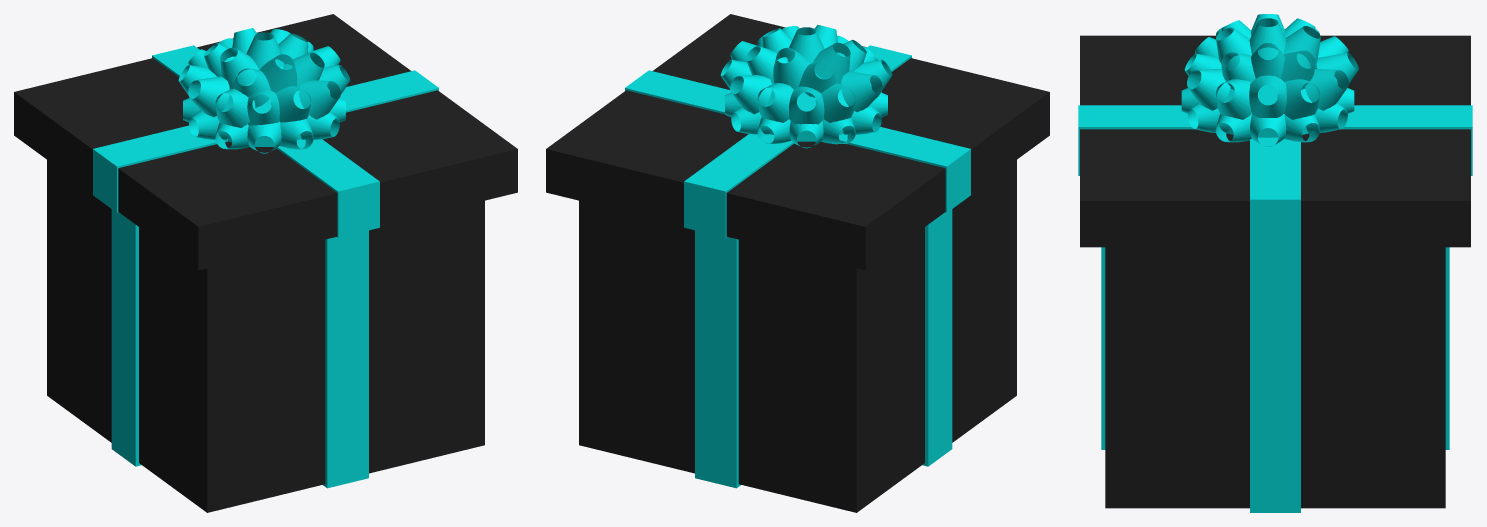
Rendered from gift_box_game_one.fbx.
The picture shows the model from 3 angles, left to right: view 1: azimuth 30°, elevation 25°; view 2: azimuth 150°, elevation 25°; view 3: azimuth 270°, elevation 25°; orthographic projection. The views are drawn at different scales.
Visible parts, largest first — view 1: gBox, gBoxLid, bRibbon, bRibbon3, bRibbon7, bRibbon6, GiftGameScene_0008:pCylinder10 (×3), GiftGameScene_0008:pCylinder11 (×3), bRibbon11, GiftGameScene_0008:pCylinder12 (×2), bRibbon10, GiftGameScene_0008:pCylinder26 (+6 smaller); view 2: gBox, gBoxLid, bRibbon2, bRibbon3, bRibbon7, bRibbon6, bRibbon9, GiftGameScene_0008:pCylinder11 (×2), GiftGameScene_0008:pCylinder10 (×2), bRibbon10, GiftGameScene_0008:pCylinder26, GiftGameScene_0008:pCylinder18 (+10 smaller); view 3: gBox, gBoxLid, bRibbon1, bRibbon6, GiftGameScene_0008:pCylinder12 (×4), bRibbon7, GiftGameScene_0008:pCylinder11 (×3), bRibbon8, GiftGameScene_0008:pCylinder27, GiftGameScene_0008:pCylinder14, GiftGameScene_0008:pCylinder18, GiftGameScene_0008:pCylinder17 (+10 smaller).
Part boxes in pixels (x1=…): gBox: x1=47, y1=160, x2=484, y2=512; gBoxLid: x1=14, y1=14, x2=517, y2=270; bRibbon: x1=325, y1=230, x2=368, y2=484; bRibbon3: x1=111, y1=209, x2=138, y2=462; bRibbon7: x1=94, y1=70, x2=437, y2=167; bRibbon6: x1=153, y1=46, x2=378, y2=192; GiftGameScene_0008:pCylinder10 (×3): x1=220, y1=47, x2=281, y2=153; GiftGameScene_0008:pCylinder11 (×3): x1=246, y1=32, x2=313, y2=149; bRibbon11: x1=334, y1=181, x2=379, y2=237; GiftGameScene_0008:pCylinder12 (×2): x1=283, y1=52, x2=339, y2=139; bRibbon10: x1=93, y1=148, x2=122, y2=212; GiftGameScene_0008:pCylinder26: x1=188, y1=76, x2=229, y2=117; gBox: x1=579, y1=160, x2=1016, y2=512; gBoxLid: x1=546, y1=14, x2=1049, y2=270; bRibbon2: x1=695, y1=230, x2=738, y2=484; bRibbon3: x1=925, y1=209, x2=952, y2=463; bRibbon7: x1=626, y1=70, x2=969, y2=167; bRibbon6: x1=685, y1=46, x2=910, y2=192; bRibbon9: x1=684, y1=181, x2=728, y2=237; GiftGameScene_0008:pCylinder11 (×2): x1=773, y1=27, x2=824, y2=88; GiftGameScene_0008:pCylinder10 (×2): x1=798, y1=42, x2=850, y2=97; bRibbon10: x1=942, y1=148, x2=970, y2=212; GiftGameScene_0008:pCylinder26: x1=841, y1=71, x2=882, y2=112; GiftGameScene_0008:pCylinder18: x1=730, y1=75, x2=771, y2=114; gBox: x1=1105, y1=247, x2=1445, y2=508; gBoxLid: x1=1080, y1=35, x2=1470, y2=247; bRibbon1: x1=1250, y1=248, x2=1300, y2=506; bRibbon6: x1=1080, y1=105, x2=1470, y2=129; GiftGameScene_0008:pCylinder12 (×4): x1=1188, y1=43, x2=1315, y2=133; bRibbon7: x1=1250, y1=137, x2=1300, y2=198; GiftGameScene_0008:pCylinder11 (×3): x1=1216, y1=18, x2=1320, y2=70; bRibbon8: x1=1250, y1=199, x2=1300, y2=248; GiftGameScene_0008:pCylinder27: x1=1249, y1=75, x2=1286, y2=117; GiftGameScene_0008:pCylinder14: x1=1187, y1=68, x2=1230, y2=110; GiftGameScene_0008:pCylinder18: x1=1305, y1=69, x2=1348, y2=110; GiftGameScene_0008:pCylinder17: x1=1277, y1=79, x2=1319, y2=119.
Size of the model in its own units: 11.6 by 13.43 by 11.6.
